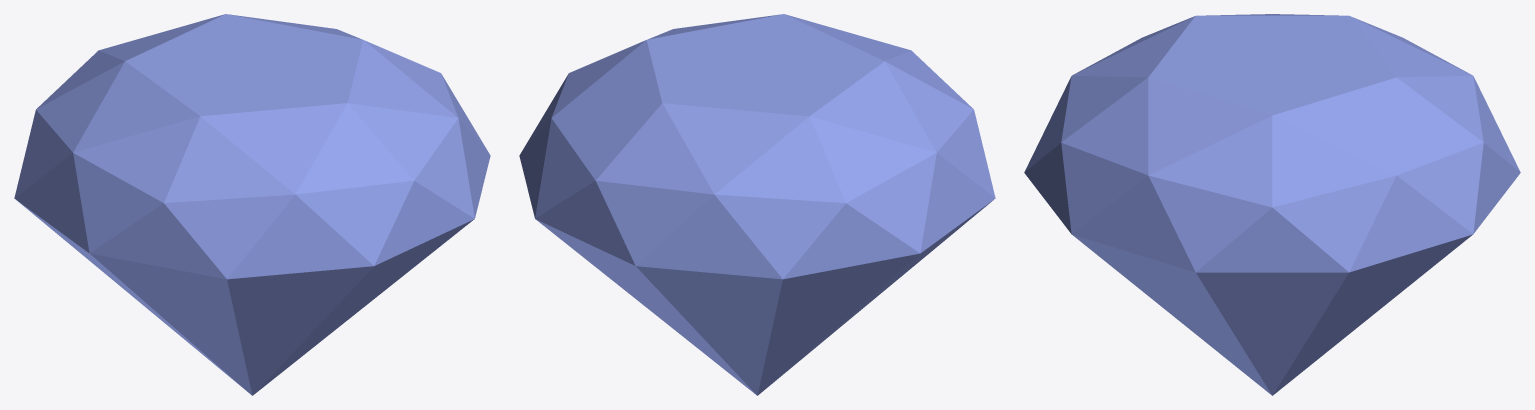
Rendered from diamond.fbx.
3 renders of one model, left to right at view 1: azimuth 30°, elevation 25°; view 2: azimuth 150°, elevation 25°; view 3: azimuth 270°, elevation 25°, orthographic.
Visible parts, largest first — view 1: houseki; view 2: houseki; view 3: houseki.
Boxes of the visible parts, x1,y1,x2,y2 form: houseki: (14,14,490,395); houseki: (519,14,995,395); houseki: (1024,14,1520,395).
Bounding box in the file's own units: 0.3655 × 0.2866 × 0.3844.
